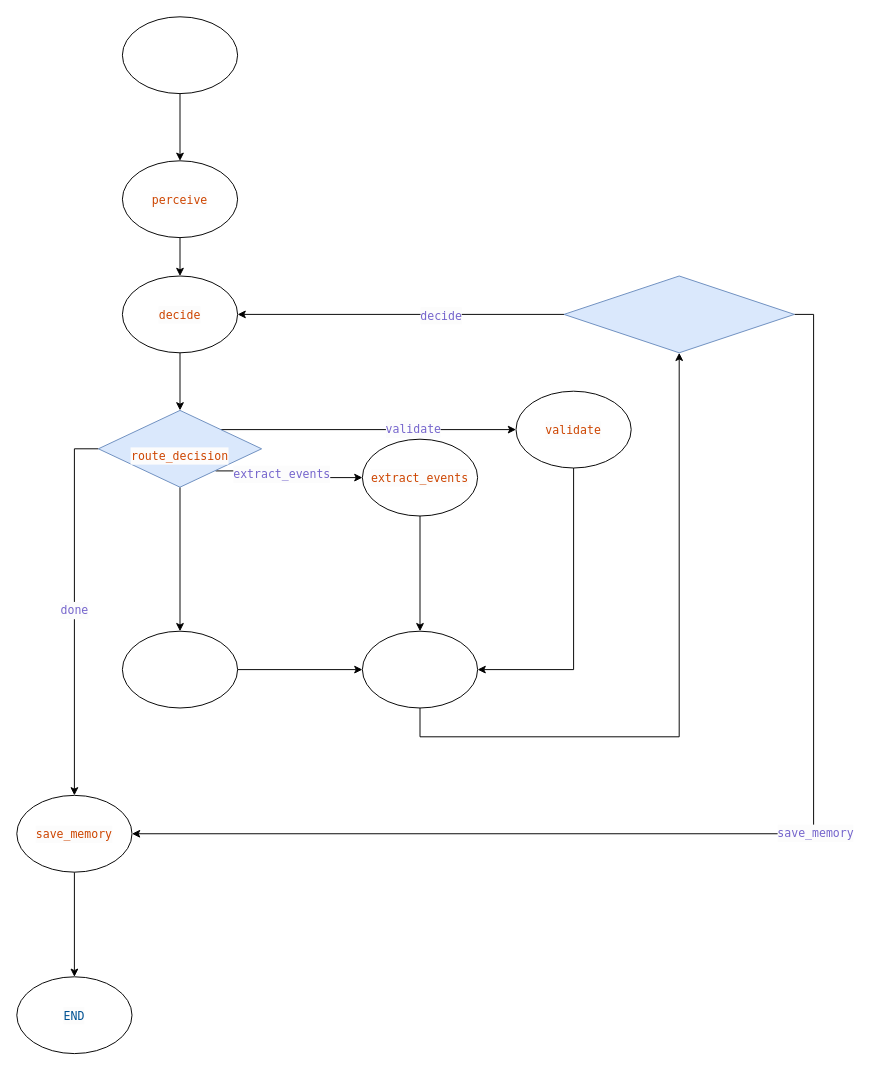
Image size: 870x1070. Some labels were removed from this diagram. The centre of each missing label's shape, as x and y in pixels:
feedback: pixel 419 669
link_relations: pixel 179 669
route_after_feedback: pixel 678 314
START: pixel 179 55
